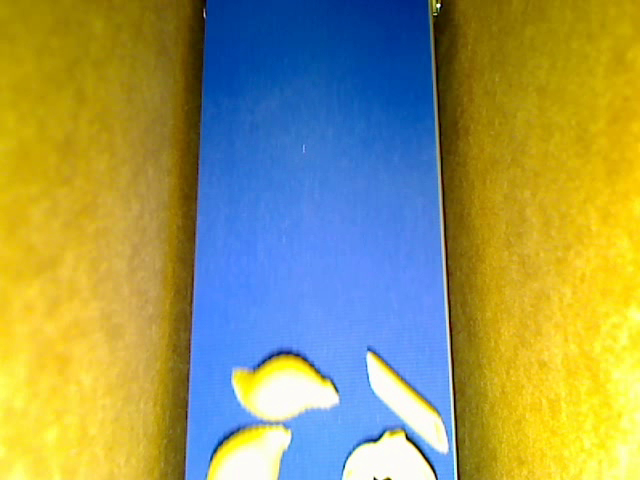penne: (365, 348, 447, 453)
shell: (231, 352, 339, 423), (206, 422, 292, 479)
tortellini: (341, 429, 437, 479)
